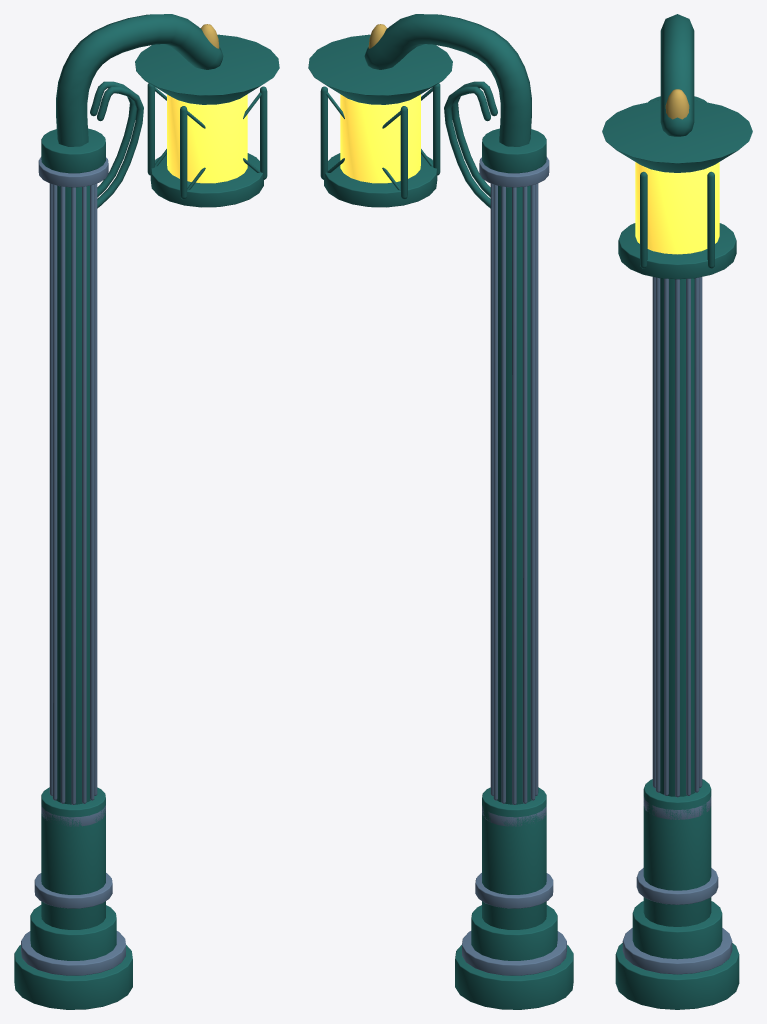
File: street_lamp.glb
3 views of the same model, side by side, from view 1: azimuth 30°, elevation 25°; view 2: azimuth 150°, elevation 25°; view 3: azimuth 270°, elevation 25° (orthographic). The views are drawn at different scales.
Visible parts, largest first — view 1: Cast_iron.003, Swan_neck, Cast_iron.002, Lantern_roof, Warm_lantern, Cast_iron, Fluted_rib.005, Fluted_rib.006, Fluted_rib.004, Fluted_rib.003, Fluted_rib.002, Cast_iron.001 (+12 smaller); view 2: Cast_iron.003, Swan_neck, Cast_iron.002, Lantern_roof, Warm_lantern, Cast_iron, Fluted_rib.007, Fluted_rib.006, Fluted_rib.008, Fluted_rib.009, Fluted_rib.010, Cast_iron.001 (+12 smaller); view 3: Cast_iron.003, Cast_iron.002, Lantern_roof, Warm_lantern, Cast_iron, Swan_neck, Lantern_bottom, Cast_iron.001, Fluted_rib.002, Fluted_rib.010, Fluted_rib, Fluted_rib.001 (+9 smaller).
Part boxes in pixels (x1,y1,x2,y2): Cast_iron.003: [56, 185, 90, 804]; Swan_neck: [56, 14, 223, 146]; Cast_iron.002: [41, 787, 105, 929]; Lantern_roof: [135, 34, 279, 104]; Warm_lantern: [167, 94, 247, 183]; Cast_iron: [14, 945, 132, 1009]; Fluted_rib.005: [60, 186, 65, 803]; Fluted_rib.006: [52, 184, 57, 800]; Fluted_rib.004: [71, 187, 75, 804]; Fluted_rib.003: [82, 186, 86, 803]; Fluted_rib.002: [90, 184, 94, 800]; Cast_iron.001: [30, 905, 116, 960]; Cast_iron.003: [497, 185, 531, 804]; Swan_neck: [364, 14, 531, 146]; Cast_iron.002: [482, 787, 546, 929]; Lantern_roof: [308, 34, 452, 104]; Warm_lantern: [340, 94, 420, 183]; Cast_iron: [455, 945, 573, 1009]; Fluted_rib.007: [522, 186, 527, 803]; Fluted_rib.006: [530, 184, 535, 800]; Fluted_rib.008: [512, 187, 516, 804]; Fluted_rib.009: [501, 186, 505, 803]; Fluted_rib.010: [493, 184, 497, 800]; Cast_iron.001: [471, 905, 557, 960]; Cast_iron.003: [659, 278, 695, 796]; Cast_iron.002: [643, 779, 711, 926]; Lantern_roof: [602, 100, 752, 172]; Warm_lantern: [635, 162, 719, 254]; Cast_iron: [615, 943, 739, 1009]; Swan_neck: [660, 14, 694, 136]; Lantern_bottom: [618, 223, 736, 279]; Cast_iron.001: [632, 901, 722, 959]; Fluted_rib.002: [655, 277, 660, 792]; Fluted_rib.010: [694, 277, 699, 792]; Fluted_rib: [675, 279, 679, 797]; Fluted_rib.001: [664, 278, 668, 795].
Size of the model in its own units: 1.06 by 3.88 by 0.5368.
